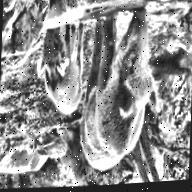boar: (69, 0, 163, 183), (42, 14, 90, 119)
